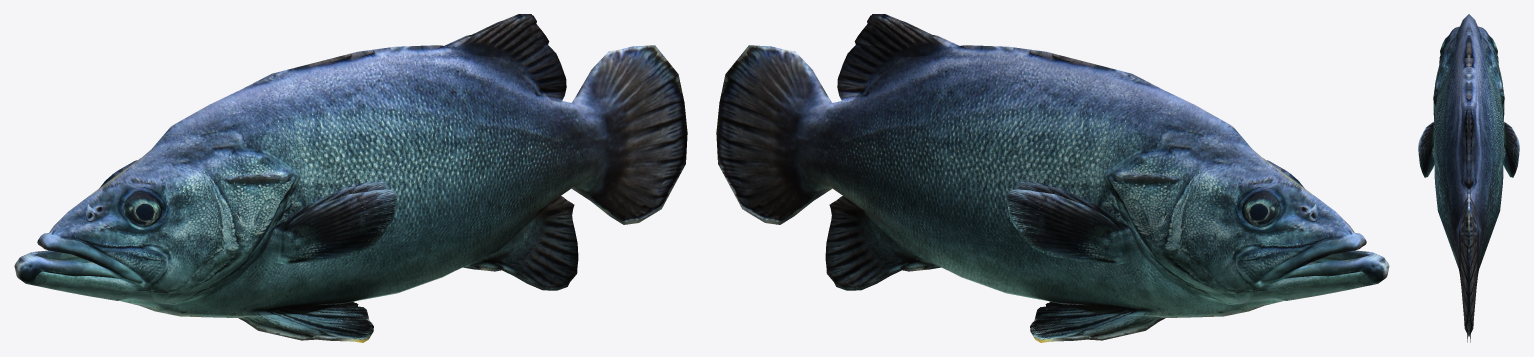
The model's file is Fish.fbx.
3 renders of one model, left to right at view 1: azimuth 30°, elevation 25°; view 2: azimuth 150°, elevation 25°; view 3: azimuth 270°, elevation 25°, orthographic. The views are drawn at different scales.
Parts seen in each view (by area): view 1: Cube; view 2: Cube; view 3: Cube.
Boxes of the visible parts, box(x1,y1,x2,y2) form: Cube: box(14, 14, 687, 342); Cube: box(716, 14, 1389, 342); Cube: box(1418, 14, 1519, 342).
Size of the model in its own units: 392 by 163 by 70.12.
Materials: 2 (2 with a texture image).
